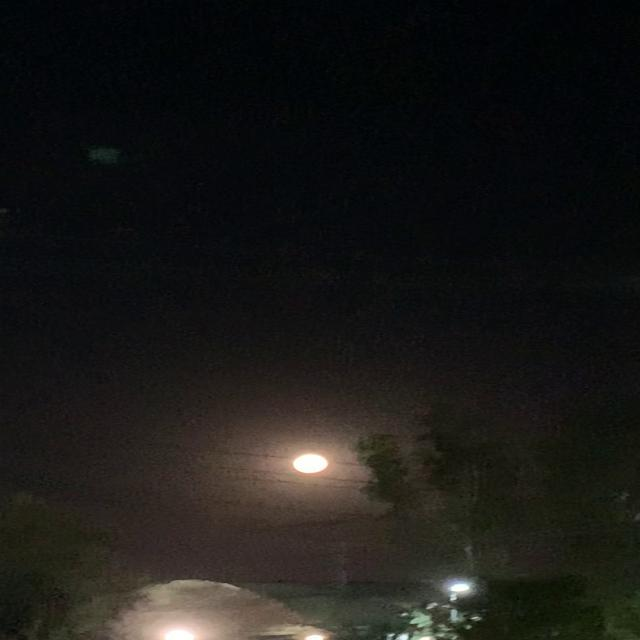moon: (296, 452, 348, 478)
